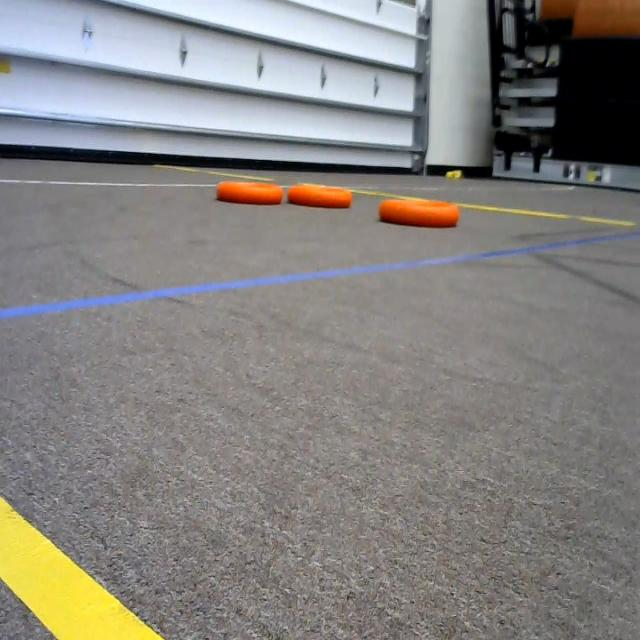note: (379, 188, 470, 228), (288, 172, 360, 216), (217, 172, 287, 204)
